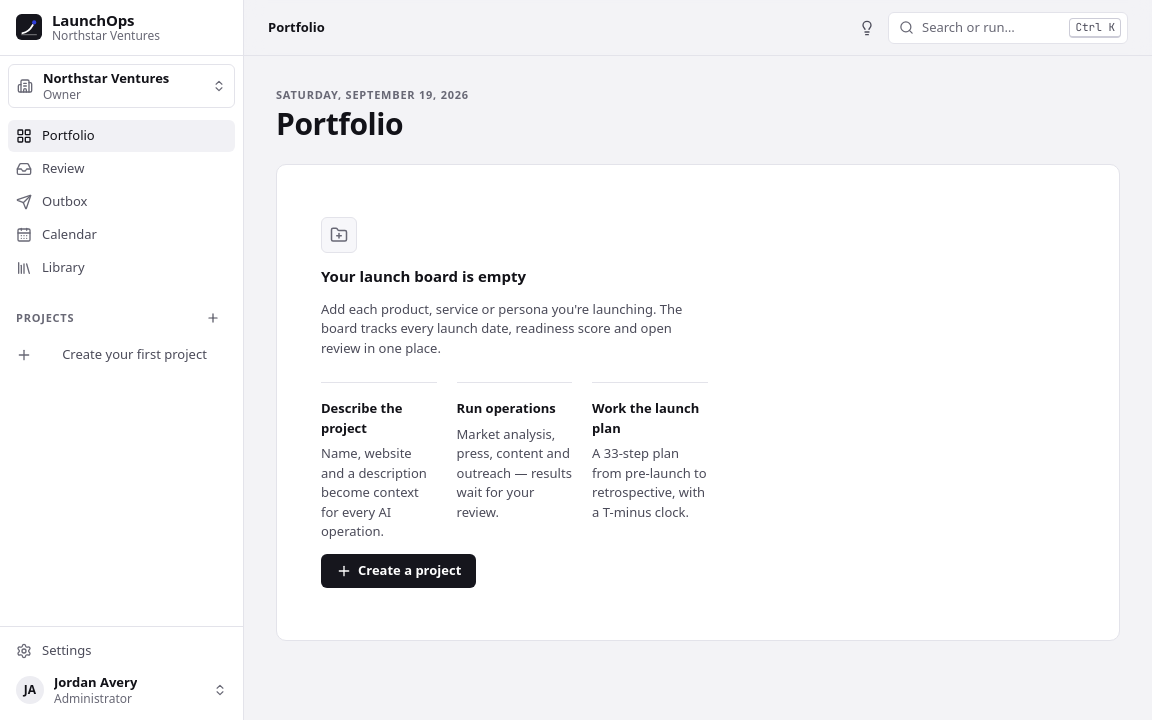
Staying signed in › signing out also ends the session on the server
The width and height of the screenshot is (1152, 720).
What coordinates should you click on to do the following:
click the button "JA Jordan Avery Administrator"
I would click on:
 (122, 690)
Its box is x1=8 y1=668 x2=235 y2=712.
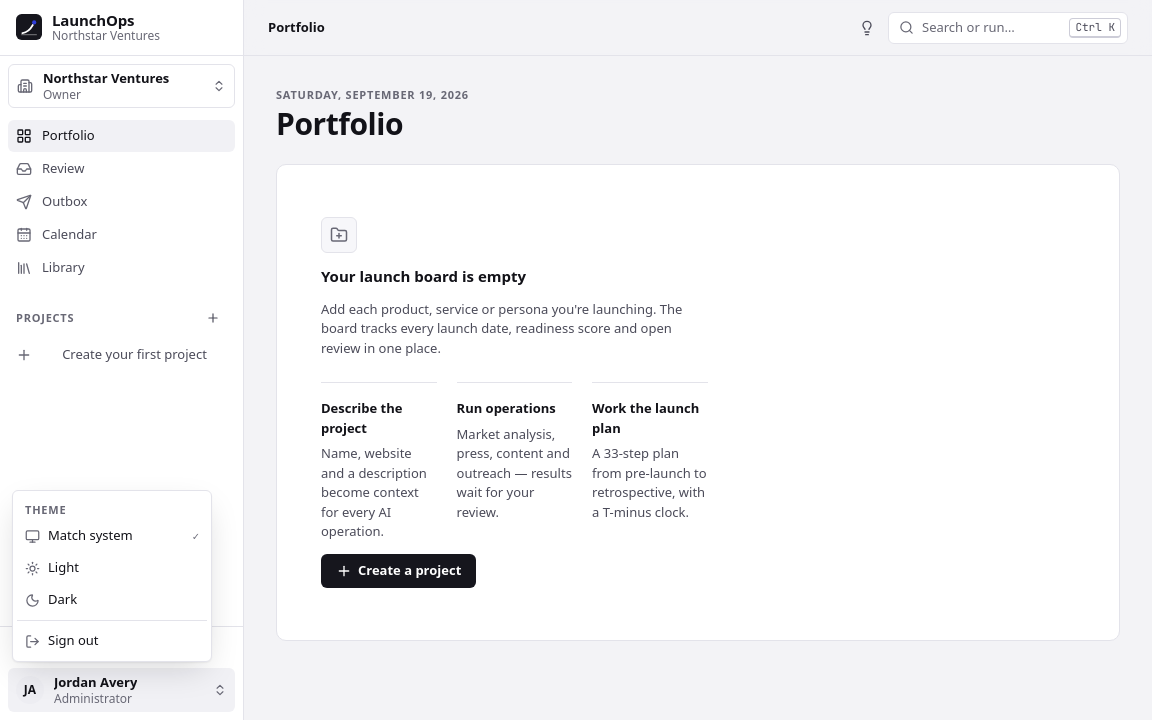
What coordinates should you click on to do the following:
click the menu item "Sign out"
I would click on:
 (62, 640)
Its box is x1=25 y1=631 x2=98 y2=649.
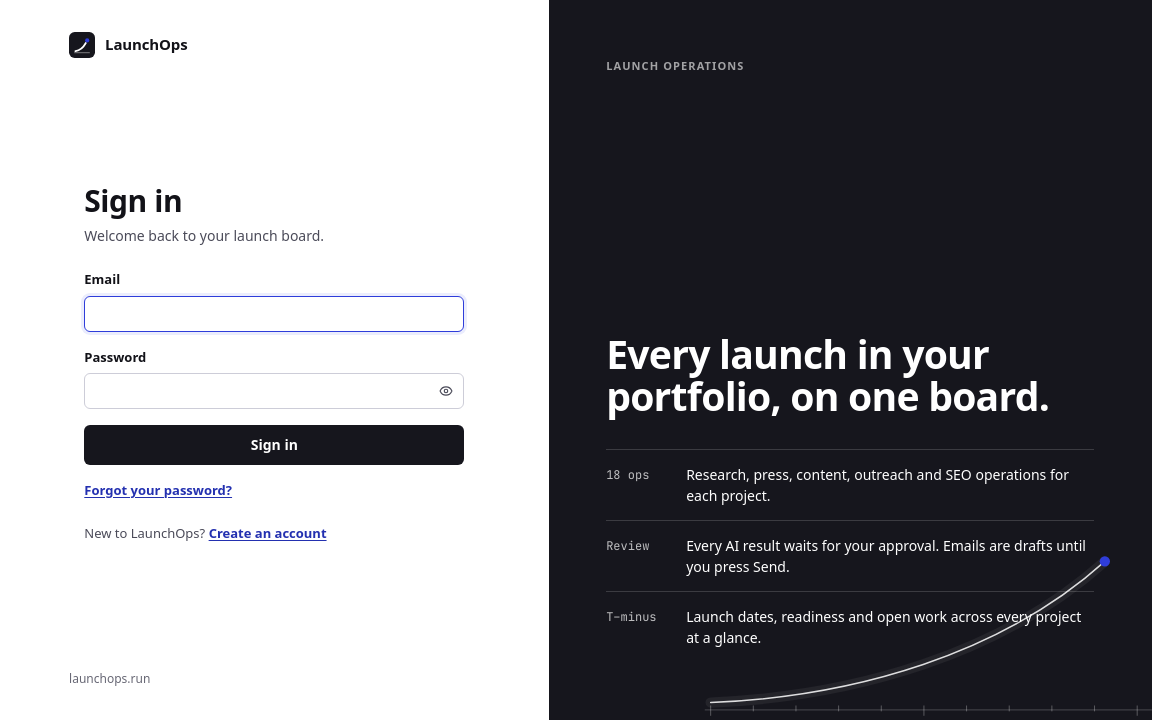
Expected: the heading "Sign in" is shown, x1=84 y1=180 x2=182 y2=221
